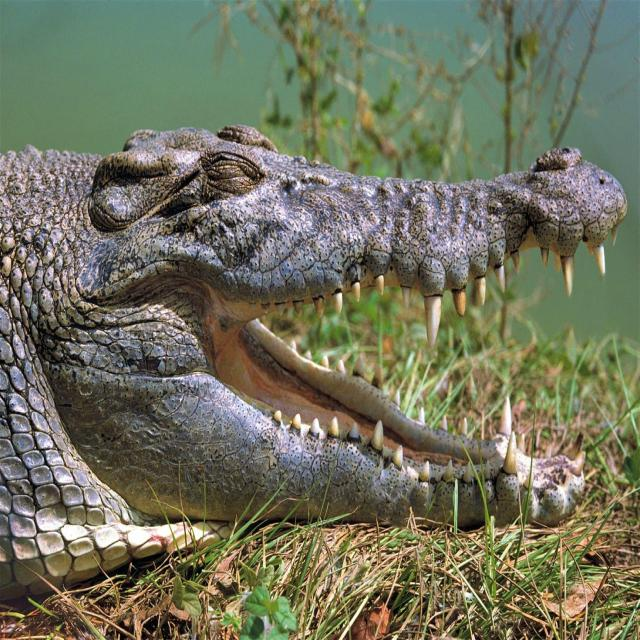crocodile: (1, 124, 632, 602)
